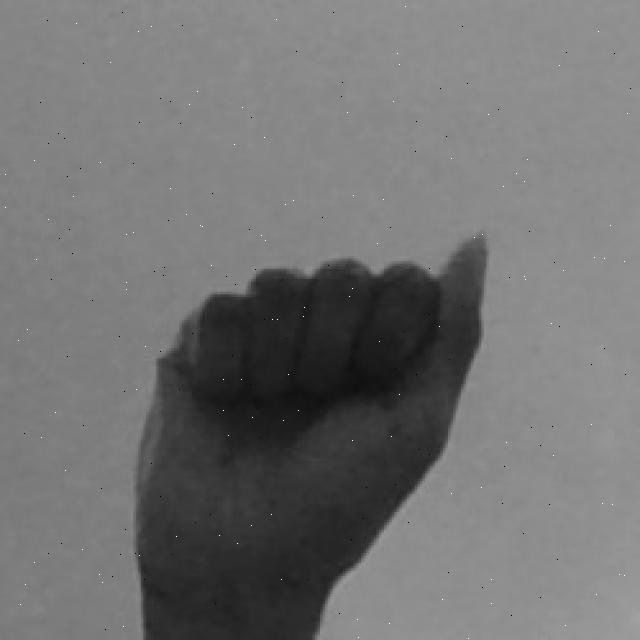A: (123, 220, 499, 640)
